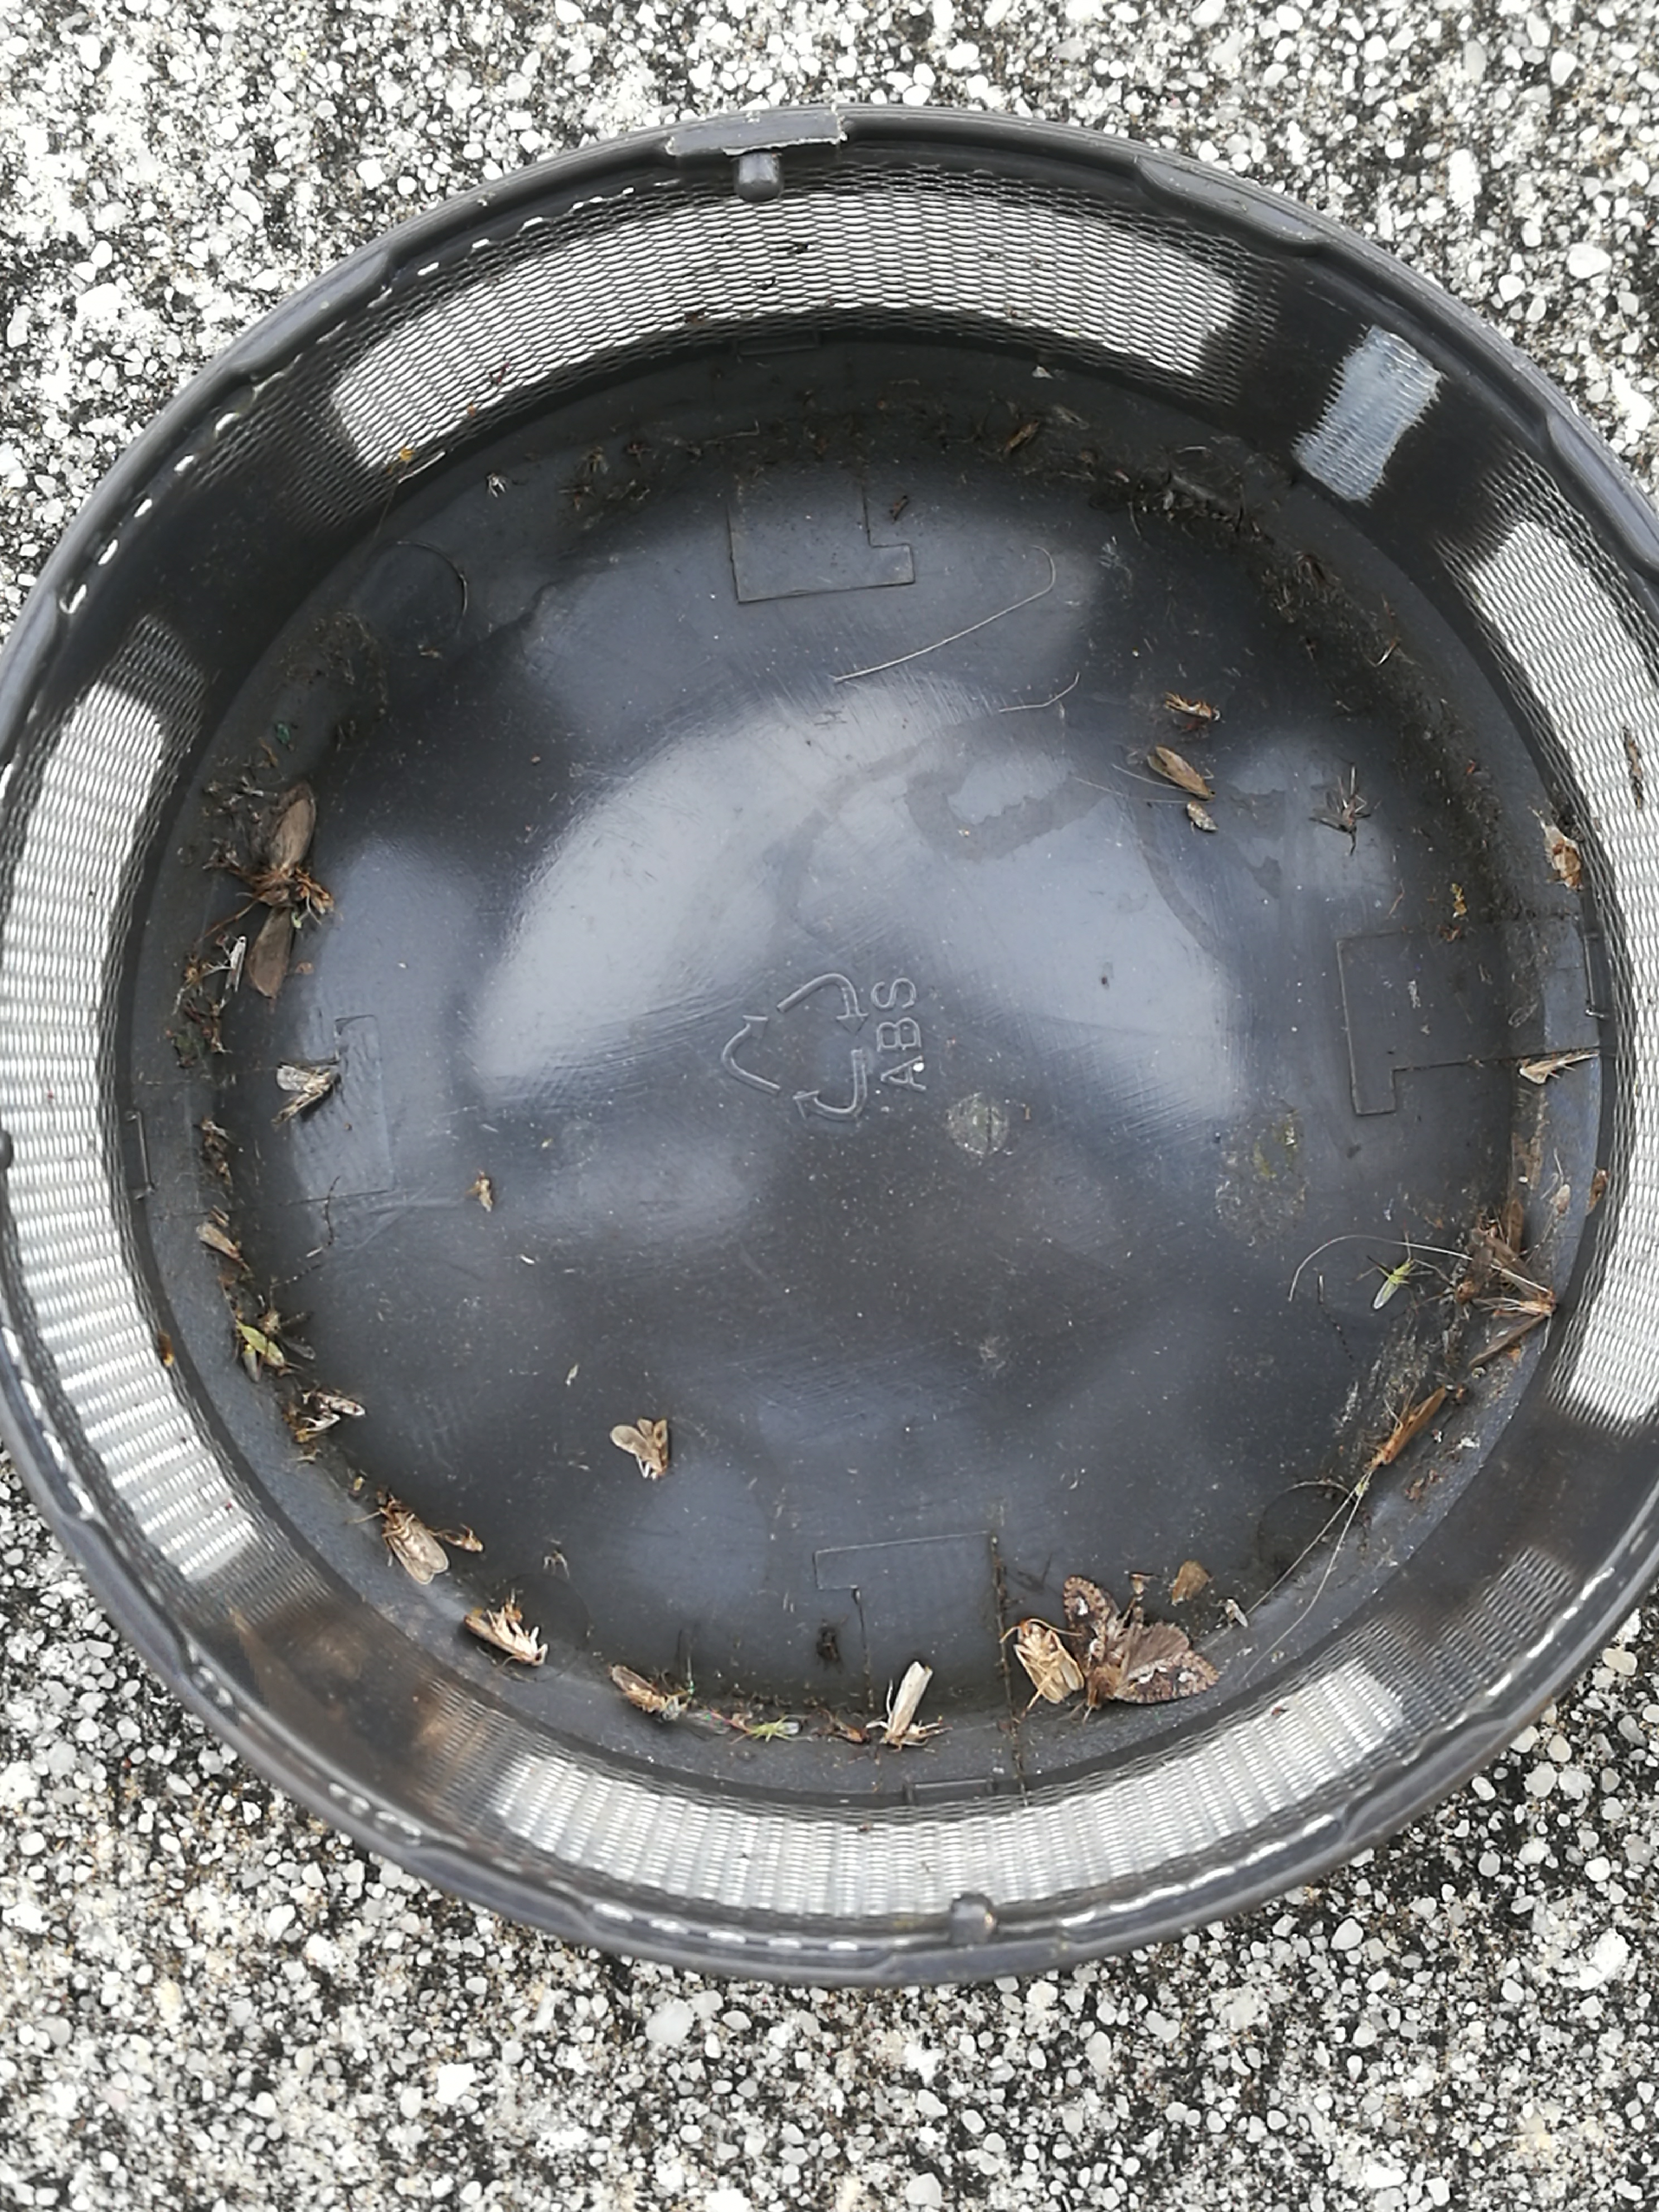mosquito: (1375, 1392, 1446, 1465), (464, 1609, 549, 1663), (1145, 745, 1215, 798), (894, 1662, 931, 1733), (612, 1667, 666, 1714), (199, 1223, 240, 1259), (1166, 695, 1220, 719), (228, 935, 246, 993), (321, 1395, 366, 1414)
moth: (1063, 1578, 1215, 1700), (249, 784, 315, 996), (1469, 1235, 1553, 1367), (1019, 1622, 1086, 1702), (385, 1505, 448, 1583), (608, 1418, 669, 1479), (277, 1064, 333, 1113)
